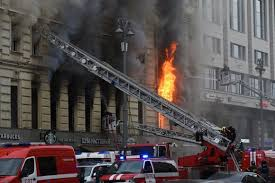fire: (141, 48, 194, 129)
